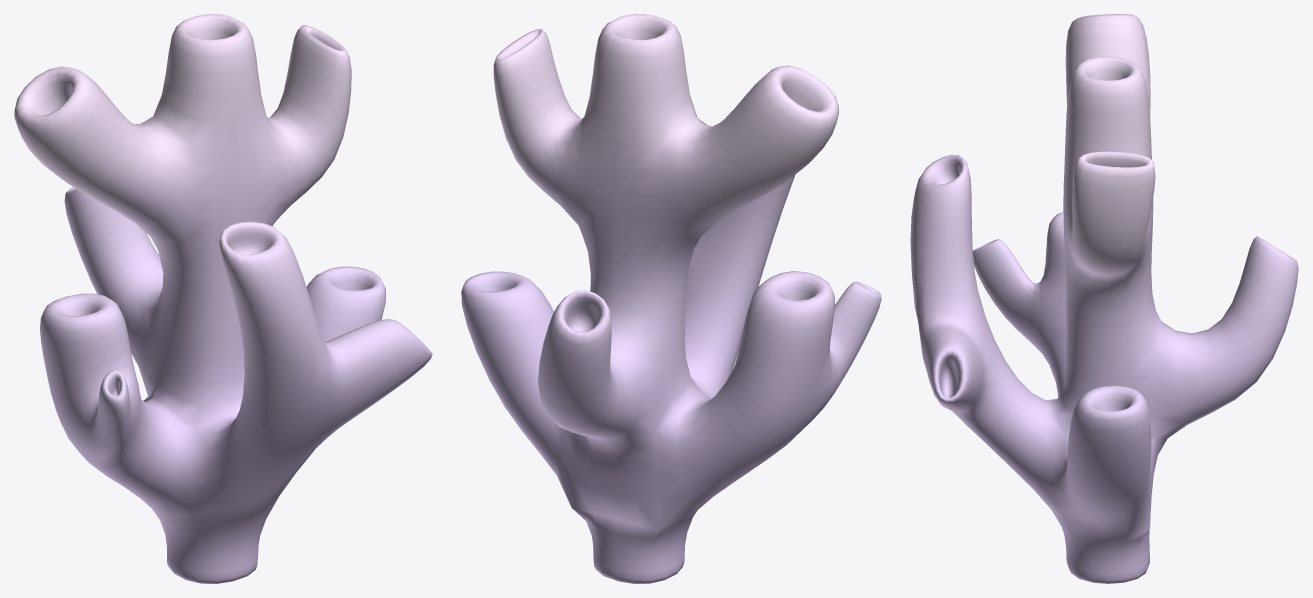
Rendered from coral3.glb.
The picture shows the model from 3 angles, left to right: view 1: azimuth 30°, elevation 25°; view 2: azimuth 150°, elevation 25°; view 3: azimuth 270°, elevation 25°; orthographic projection. The views are drawn at different scales.
Parts seen in each view (by area): view 1: Cube; view 2: Cube; view 3: Cube.
Part boxes in pixels (bbox=[...]): Cube: bbox=[14, 14, 432, 583]; Cube: bbox=[461, 14, 881, 583]; Cube: bbox=[910, 14, 1298, 583].
Size of the model in its own units: 2.52 by 3.6 by 2.53.
1 material, 1 textured.
